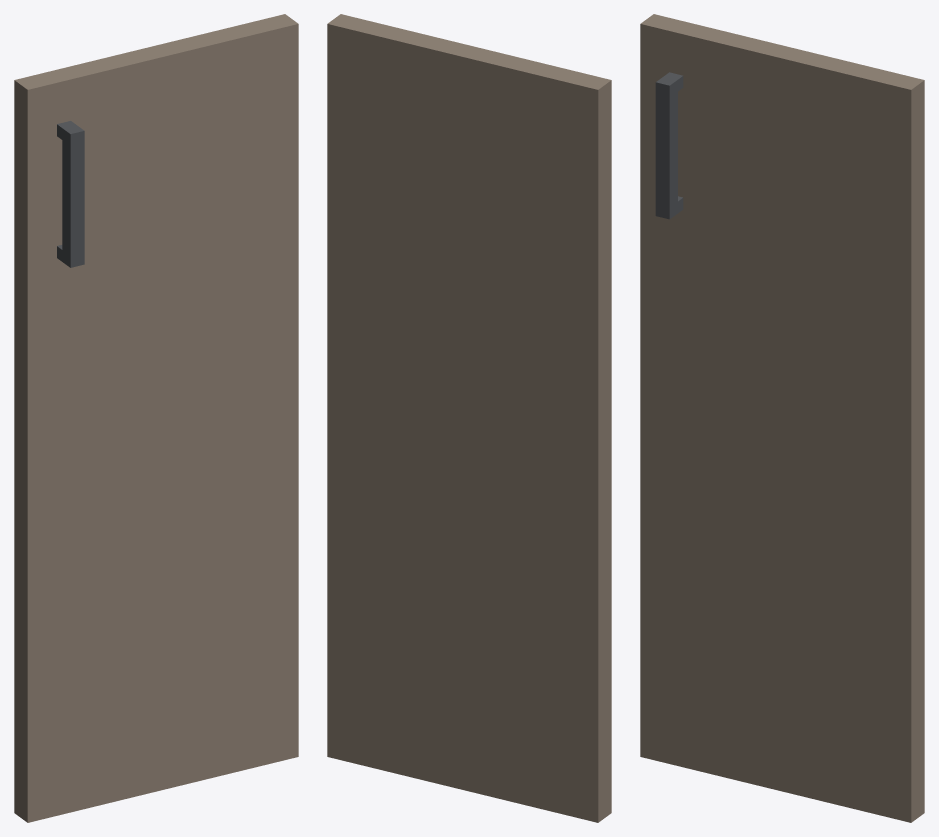
File: Door1_C5_03.fbx
3 views of the same model, side by side, from view 1: azimuth 30°, elevation 25°; view 2: azimuth 150°, elevation 25°; view 3: azimuth 330°, elevation 25° (orthographic).
Visible parts, largest first — view 1: Door1_C5_03; view 2: Door1_C5_03; view 3: Door1_C5_03.
Boxes of the visible parts, x1,y1,x2,y2 form: Door1_C5_03: (14, 14, 298, 822); Door1_C5_03: (327, 14, 611, 822); Door1_C5_03: (640, 14, 924, 822).
Bounding box in the file's own units: 29 × 75 × 5.03.
